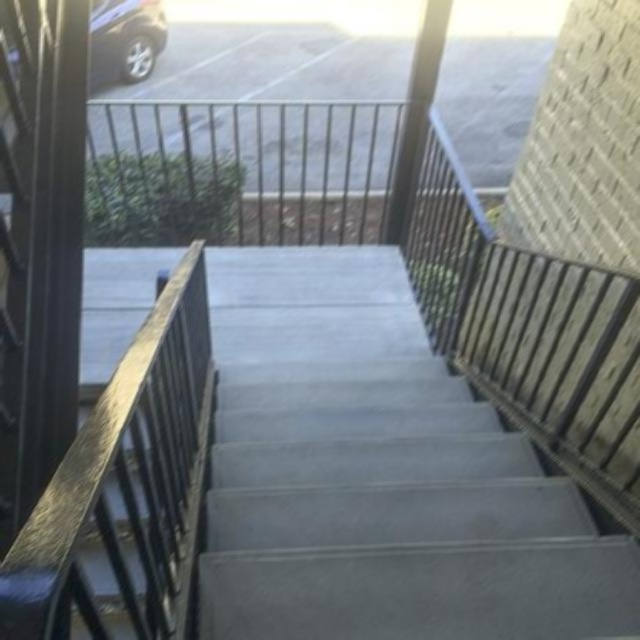stair: (0, 47, 639, 638)
